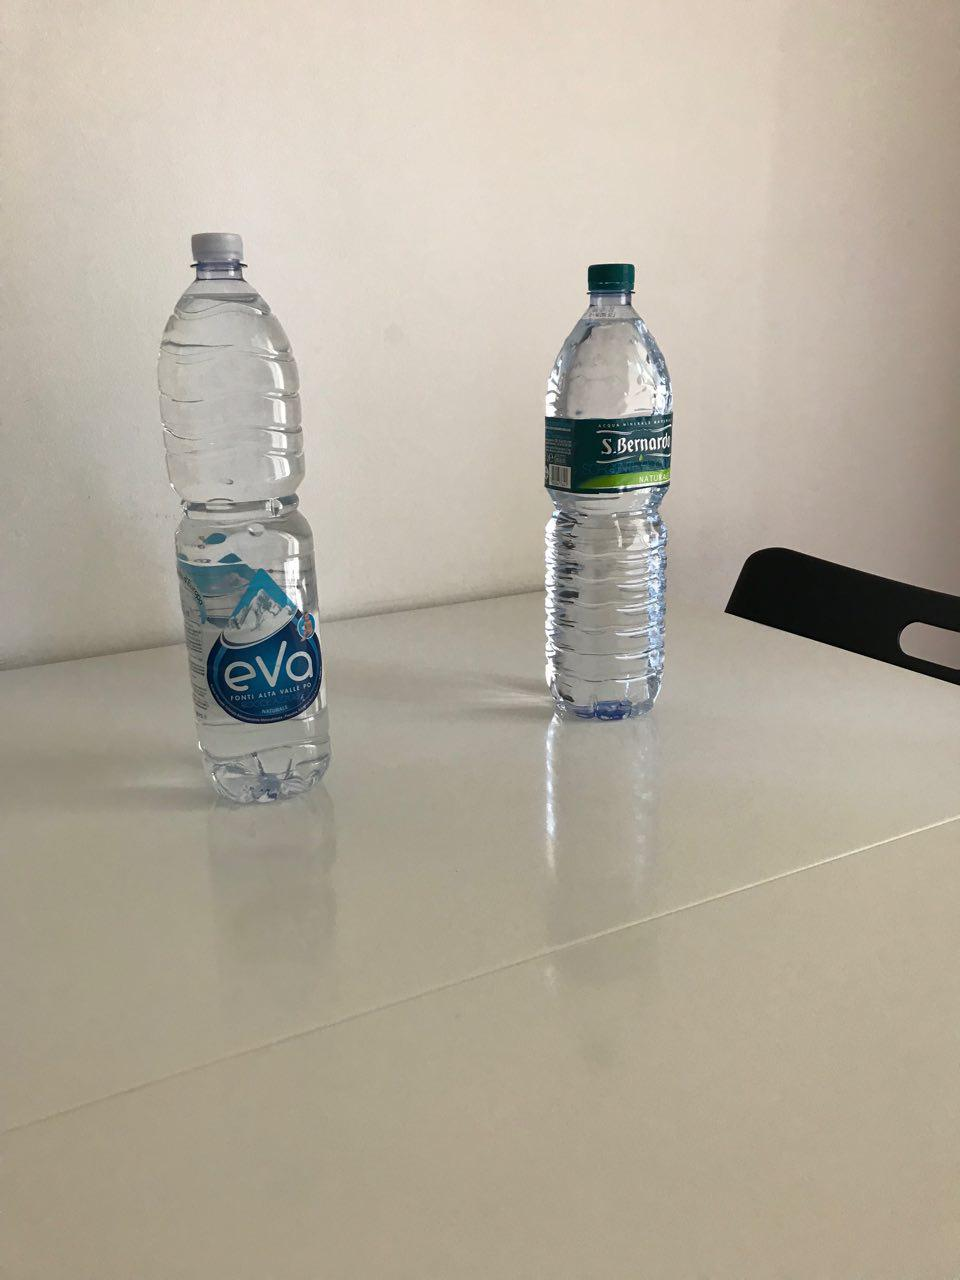san_bernardo: (544, 263, 674, 723)
